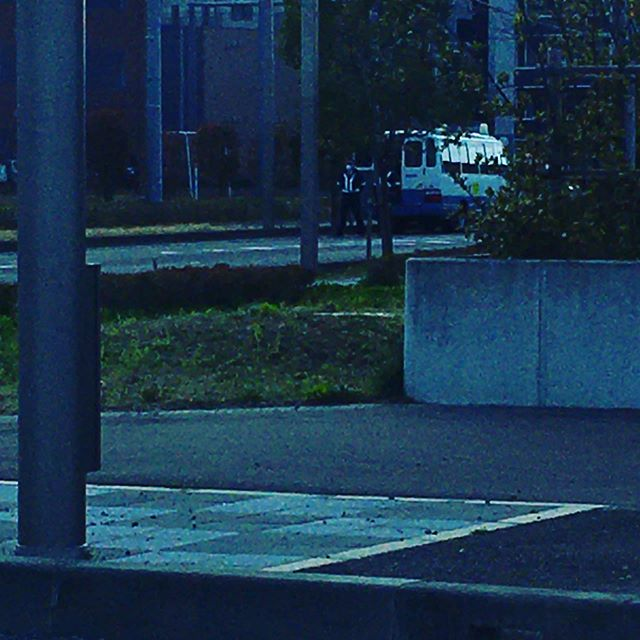grass: (54, 250, 414, 402)
van: (373, 117, 524, 236)
